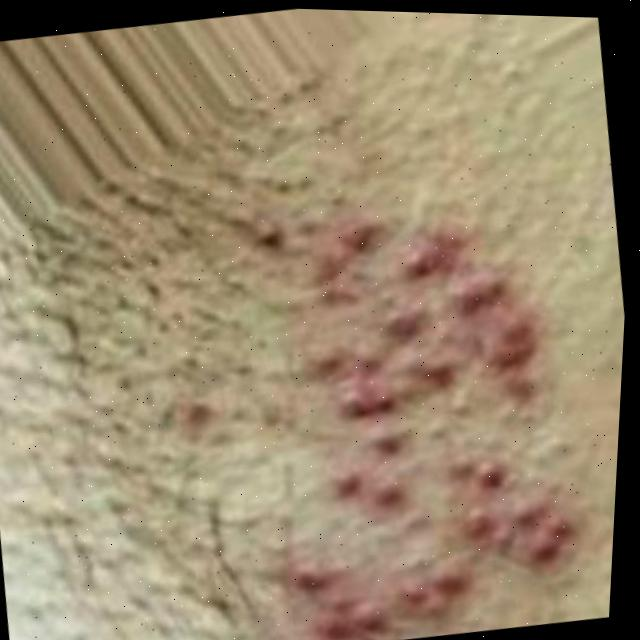Shingles: (198, 154, 614, 640)
